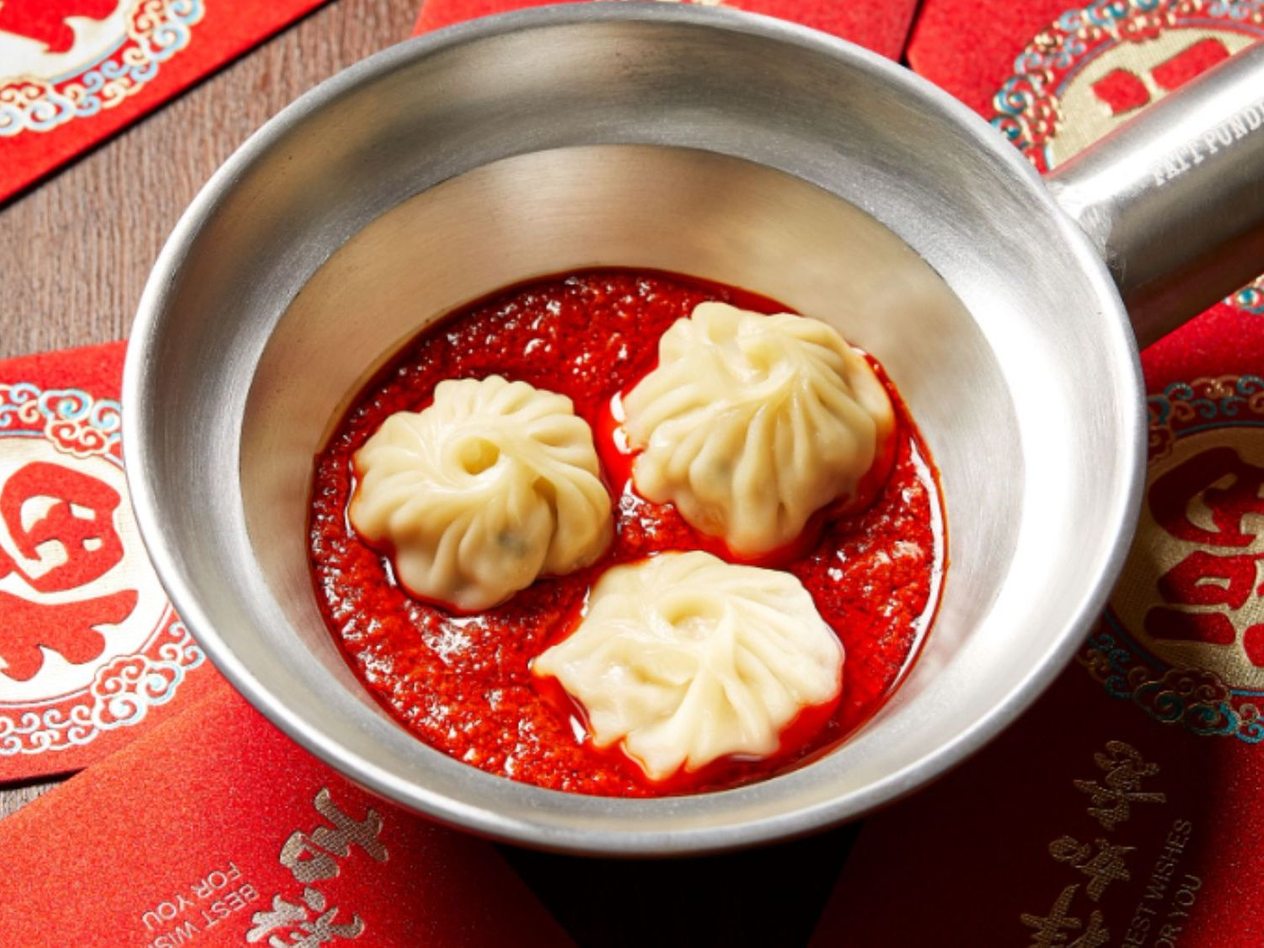momo: (514, 546, 857, 786), (624, 301, 914, 556), (348, 371, 613, 619)
